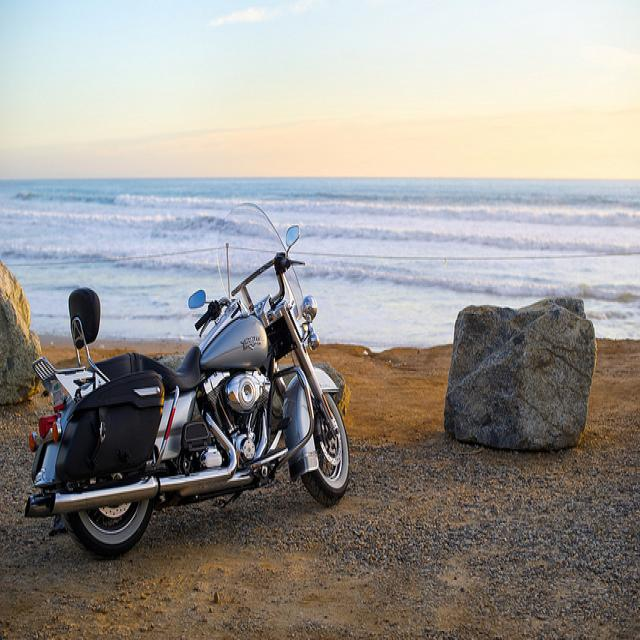motor: (24, 201, 352, 562)
